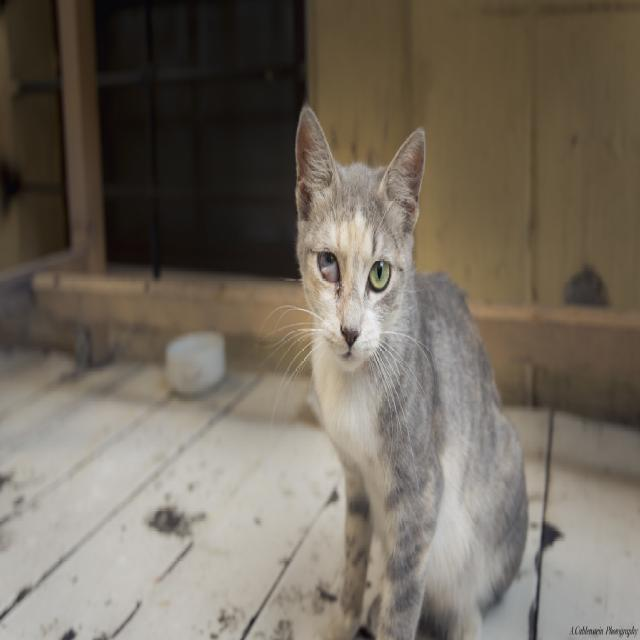Cat: (252, 99, 530, 639)
